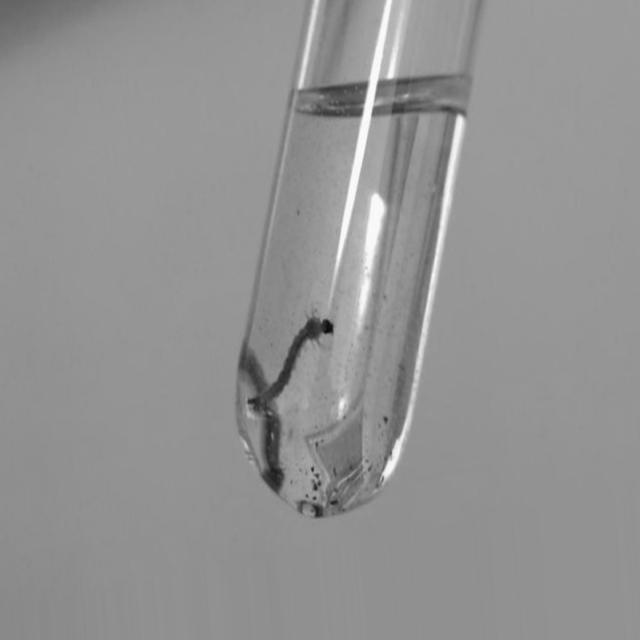larvas: (251, 303, 333, 417), (240, 344, 288, 483)
